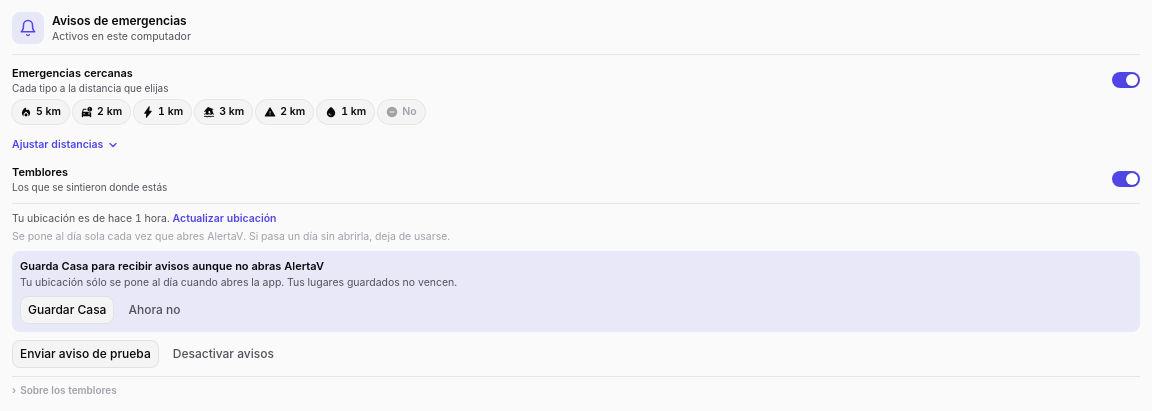
Test: NotificationPanel › sugerencia de guardar Casa › sin lugares aparece, abre «Mis lugares» y se puede descartar
Expected: the text "Guarda Casa para recibir avisos aunque no abras AlertaV" is shown, [20, 259, 324, 273]
Click the button "Guardar Casa".
click(67, 310)  # box [20, 296, 114, 324]
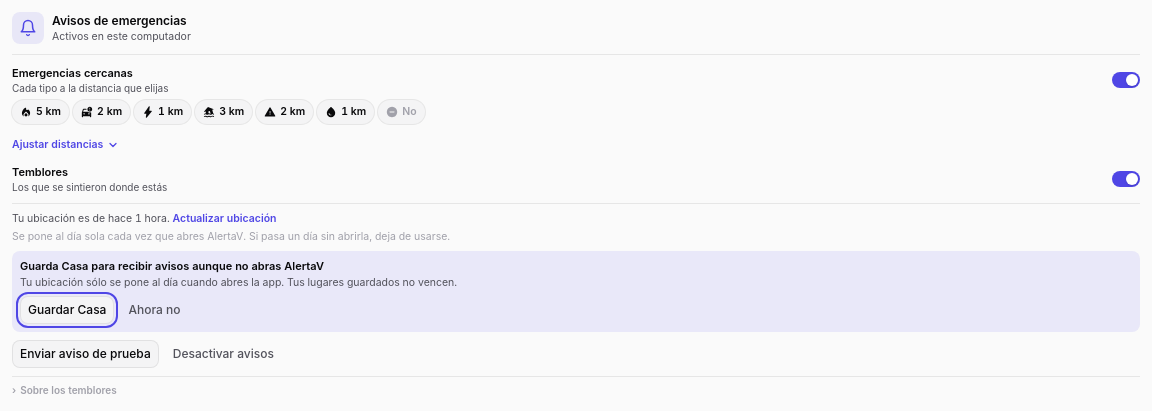
Click the button "Ahora no".
click(154, 310)  # box [120, 296, 188, 324]
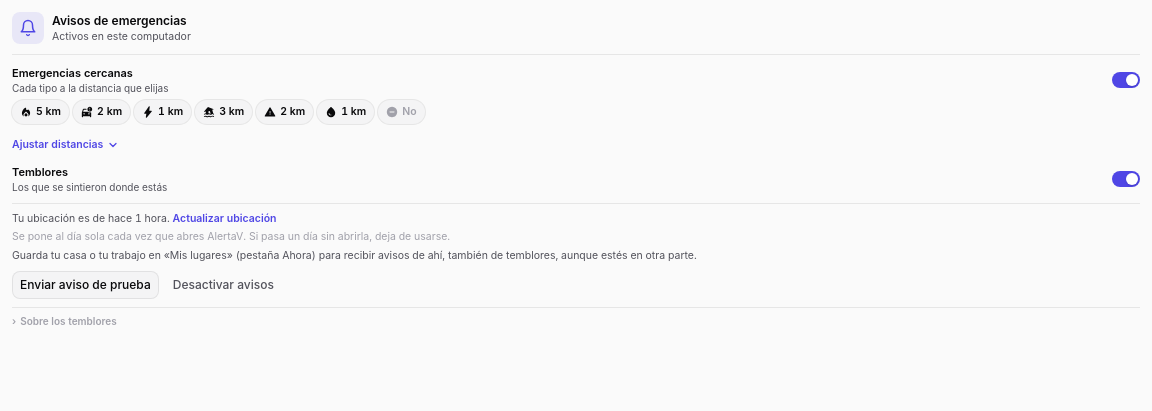
Expected: the text "Guarda Casa para recibir avisos aunque no abras AlertaV" is gone
Expected: the text "Guarda tu casa o tu trabajo en «Mis lugares» (pestaña Ahora) para recibir avisos de ahí, también de temblores, aunque es" is shown, [12, 249, 697, 262]
